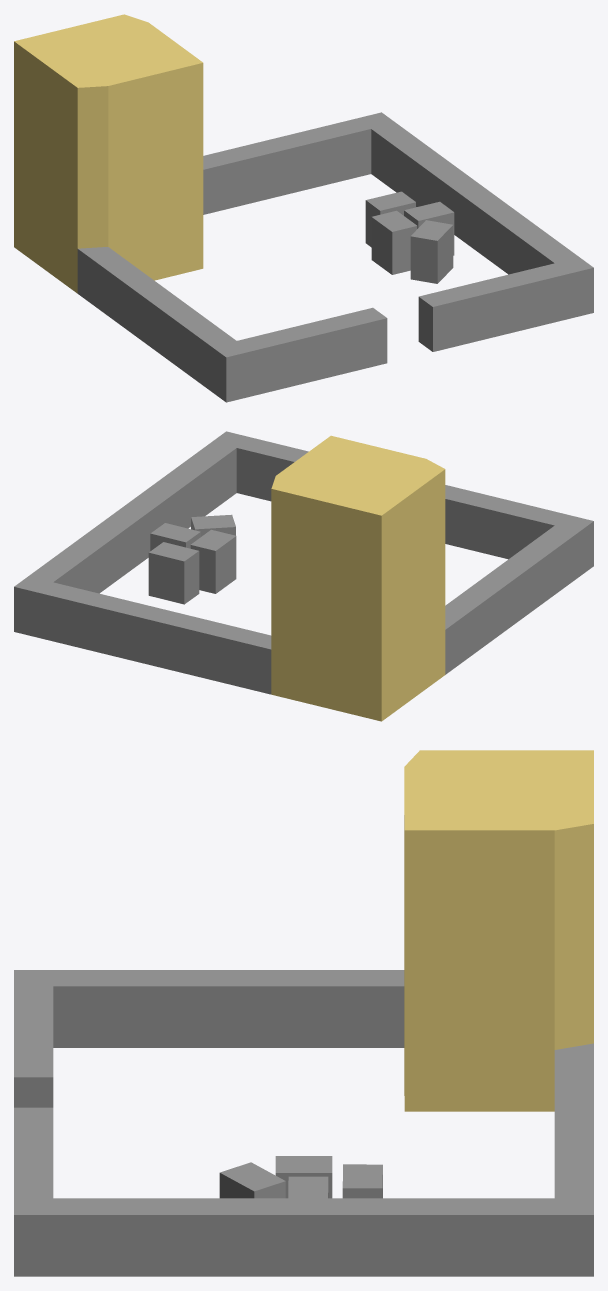
The model's file is Stoneyard.glb.
The picture shows the model from 3 angles, top to bottom: view 1: azimuth 30°, elevation 25°; view 2: azimuth 150°, elevation 25°; view 3: azimuth 270°, elevation 25°; orthographic projection. The views are drawn at different scales.
Parts seen in each view (by area): view 1: Stone yard; view 2: Stone yard; view 3: Stone yard.
Part boxes in pixels (x1,y1,x2,y2): Stone yard: (14, 14, 593, 402); Stone yard: (14, 431, 593, 721); Stone yard: (14, 750, 593, 1276).
Size of the model in its own units: 1.38 by 0.7623 by 1.38.
